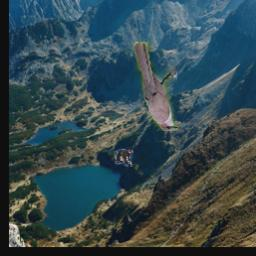Cuckoo: (133, 42, 177, 131)
Woodpecker: (114, 149, 133, 167)
